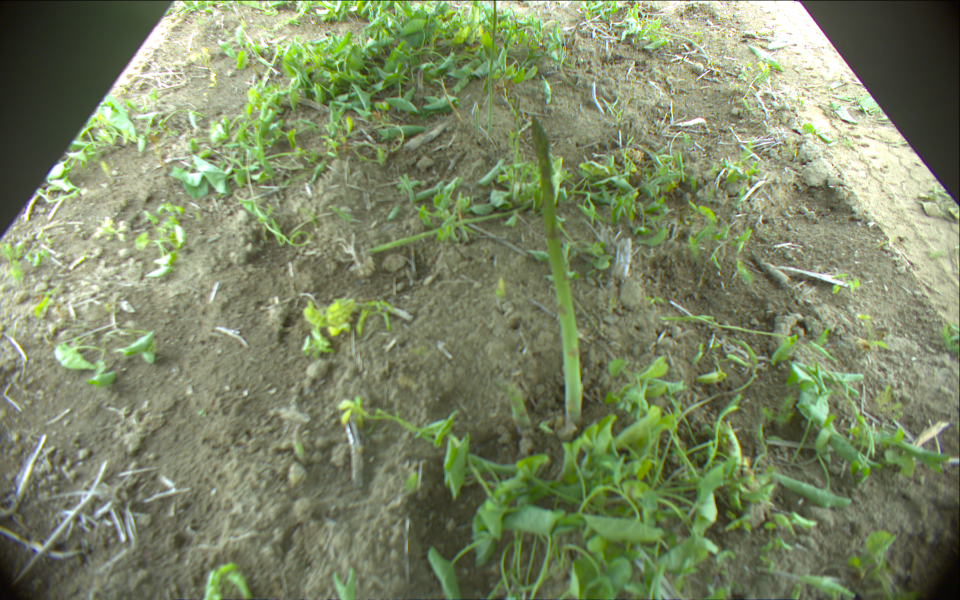aspa: (531, 113, 583, 426), (365, 196, 539, 257), (484, 1, 501, 143), (505, 384, 536, 440)
